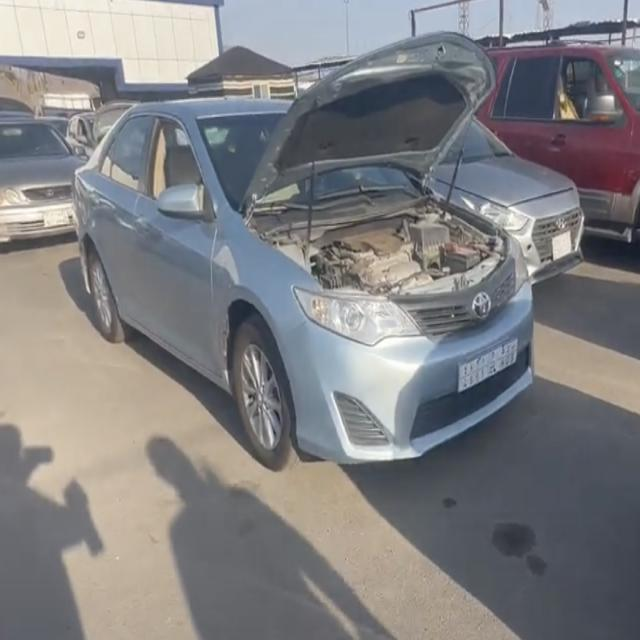license_plate: (452, 334, 520, 410), (549, 229, 573, 266), (44, 208, 70, 230)
